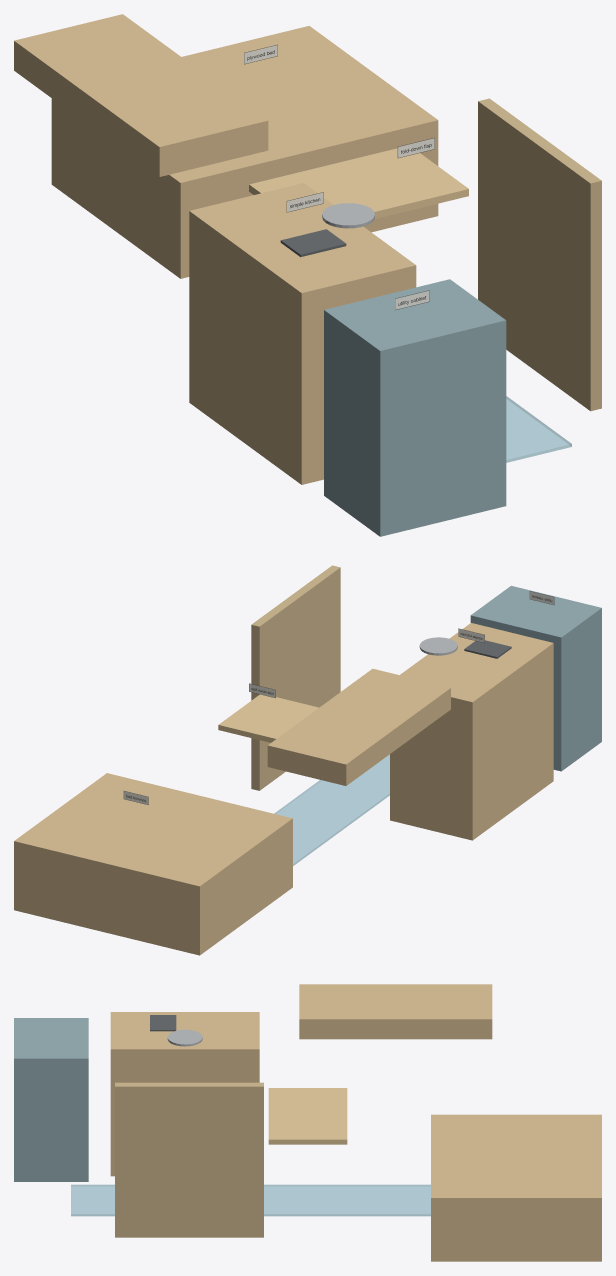
File: interior-finish-layer.glb
3 renders of one model, top to bottom at view 1: azimuth 30°, elevation 25°; view 2: azimuth 150°, elevation 25°; view 3: azimuth 270°, elevation 25°, orthographic. The views are drawn at different scales.
Parts seen in each view (by area): view 1: utility cabinet with water jug and battery, simple kitchenette cabinet, plywood bed platform, replaceable repair panel leaning inside, open wall shelf, plain hinged plywood work/eating flap, central movement path - keep clear, round sink basin.004, two-burner hotplate.004; view 2: plywood bed platform, simple kitchenette cabinet, open wall shelf, utility cabinet with water jug and battery, replaceable repair panel leaning inside, central movement path - keep clear, plain hinged plywood work/eating flap, round sink basin.004, two-burner hotplate.004; view 3: plywood bed platform, replaceable repair panel leaning inside, utility cabinet with water jug and battery, open wall shelf, simple kitchenette cabinet, central movement path - keep clear, plain hinged plywood work/eating flap, round sink basin.004, two-burner hotplate.004.
Boxes of the visible parts, x1,y1,x2,y2 form: utility cabinet with water jug and battery: (324,279,506,536); simple kitchenette cabinet: (189,183,416,484); plywood bed platform: (51,26,438,278); replaceable repair panel leaning inside: (478,98,601,411); open wall shelf: (14,14,268,176); plain hinged plywood work/eating flap: (249,148,468,218); central movement path - keep clear: (506,396,571,462); round sink basin.004: (322,203,374,228); two-burner hotplate.004: (280,229,346,257); plywood bed platform: (14,773,292,955); simple kitchenette cabinet: (390,623,553,840); open wall shelf: (267,668,450,785); utility cabinet with water jug and battery: (470,585,601,771); replaceable repair panel leaning inside: (251,565,340,790); central movement path - keep clear: (274,754,389,865); plain hinged plywood work/eating flap: (218,694,318,742); round sink basin.004: (419,637,457,655); two-burner hotplate.004: (464,640,511,658); plywood bed platform: (431,1114,601,1261); replaceable repair panel leaning inside: (115,1082,263,1237); utility cabinet with water jug and battery: (14,1018,88,1181); open wall shelf: (299,984,492,1039); simple kitchenette cabinet: (110,1012,259,1176); central movement path - keep clear: (71,1184,430,1216); plain hinged plywood work/eating flap: (268,1088,347,1144); round sink basin.004: (167,1029,202,1046); two-burner hotplate.004: (150,1015,176,1031).
Bounding box in the file's own units: 1.68 × 0.9906 × 3.4.
14 materials, 6 textured.
